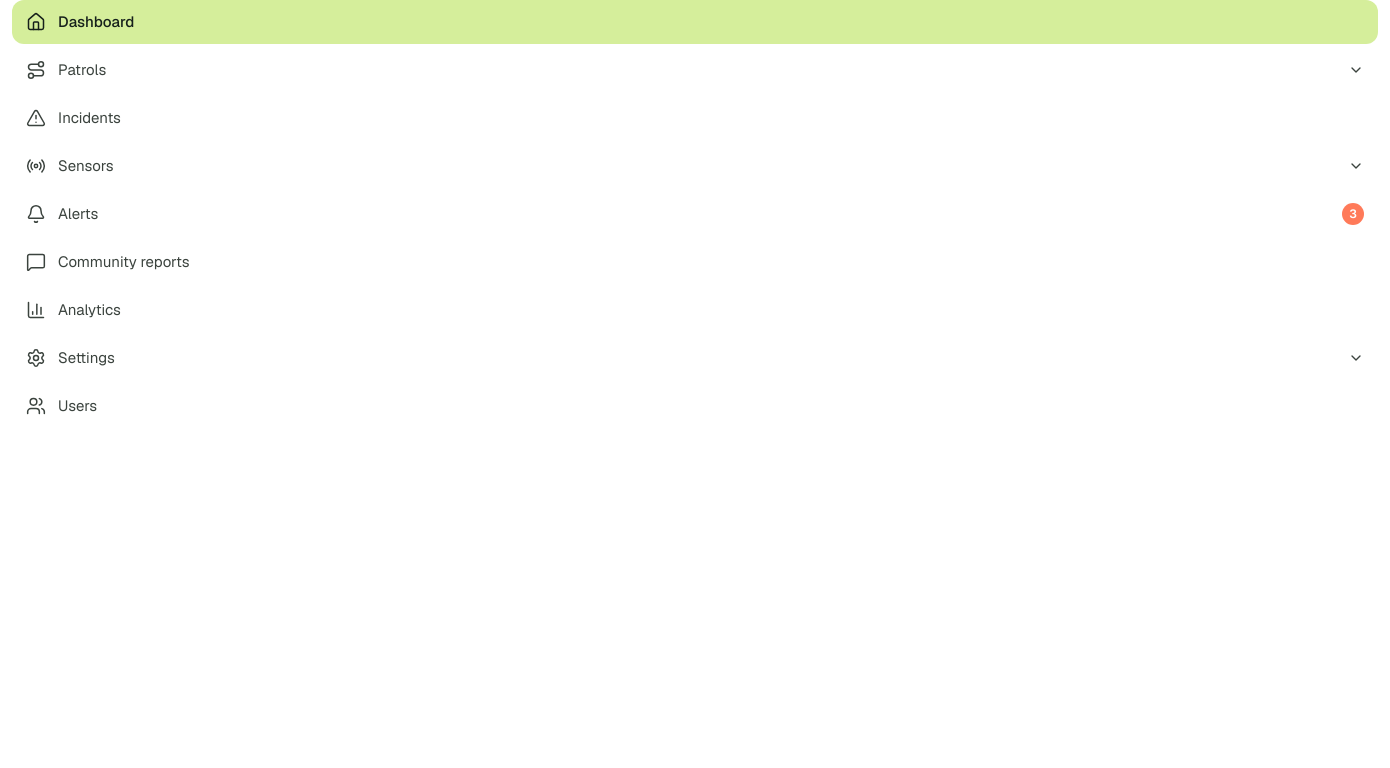
Test: navigation › renders sidebar groups and toggles nested navigation
This screenshot has width=1390, height=768.
Click the button "Patrols" at (82, 70), box [12,48,1378,92]
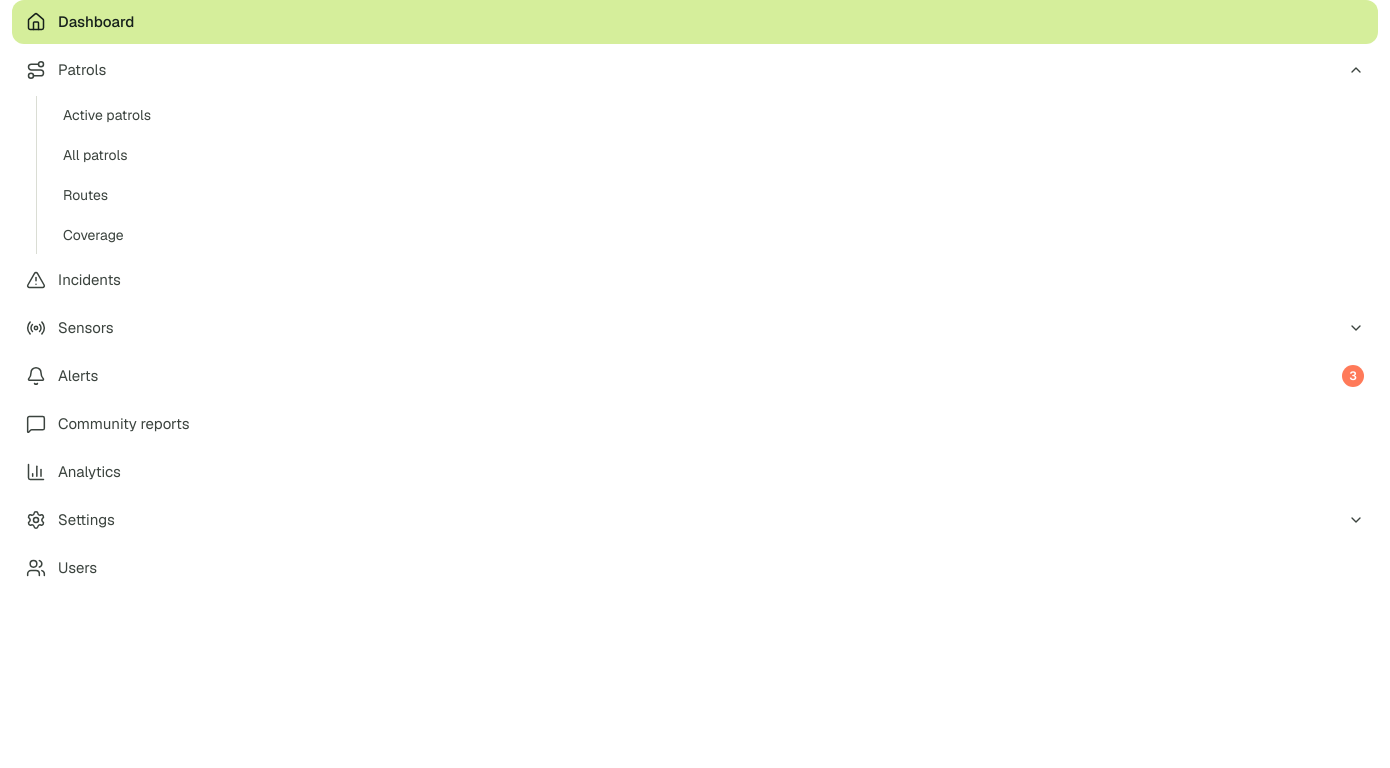
Check: the button "Patrols" is expanded
Click the button "Patrols" at (82, 70), box [12,48,1378,92]
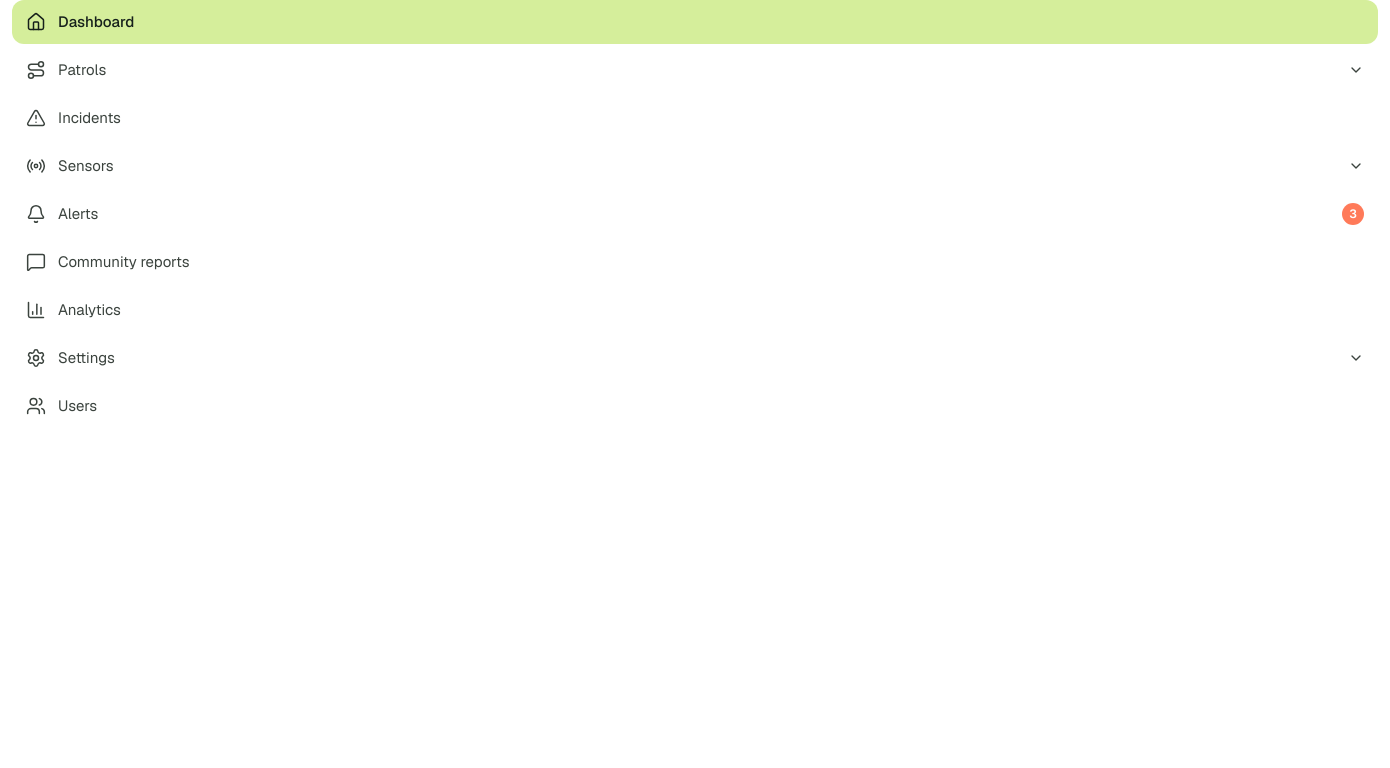
Check: the button "Patrols" is collapsed, box [12,48,1378,92]
Click the button "Sensors" at (86, 166), box [12,144,1378,188]
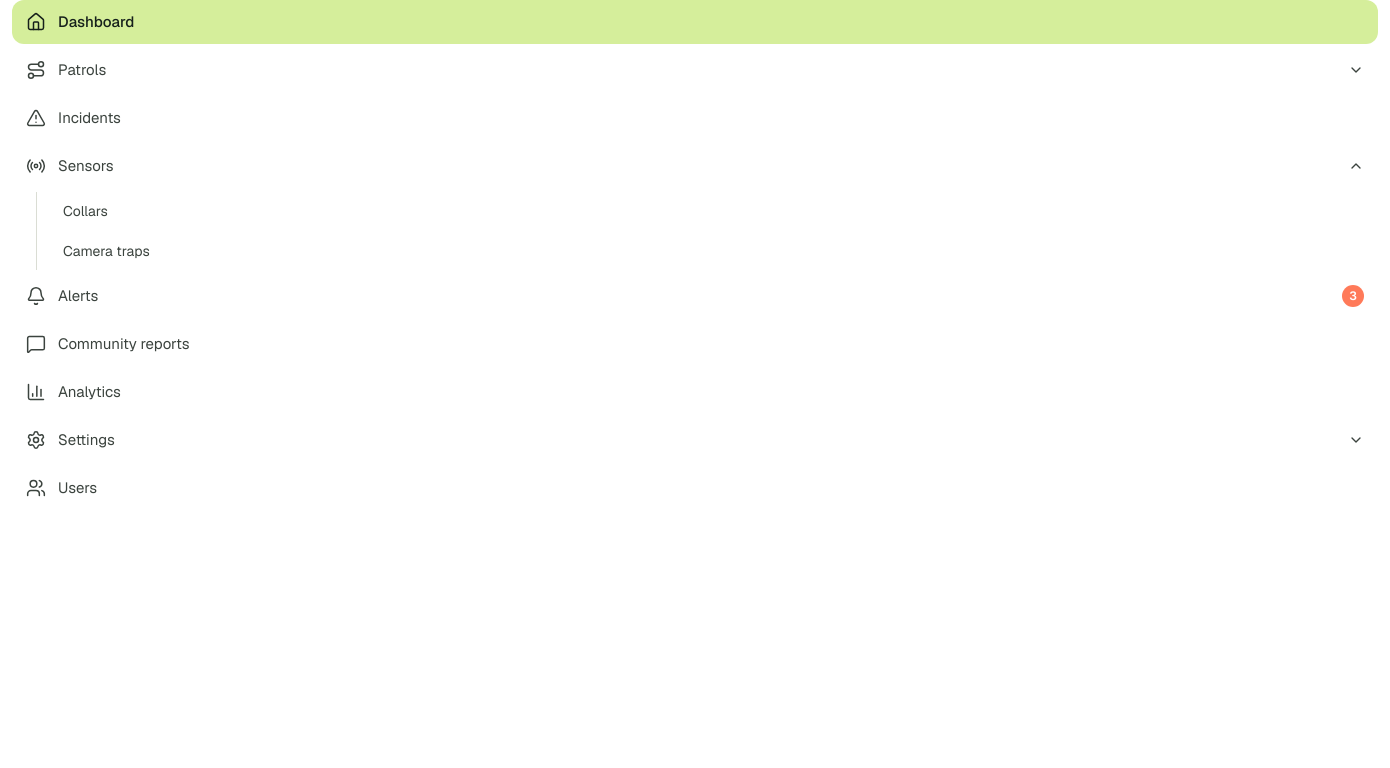
Check: the button "Sensors" is expanded
Click the button "Sensors" at (86, 166), box [12,144,1378,188]
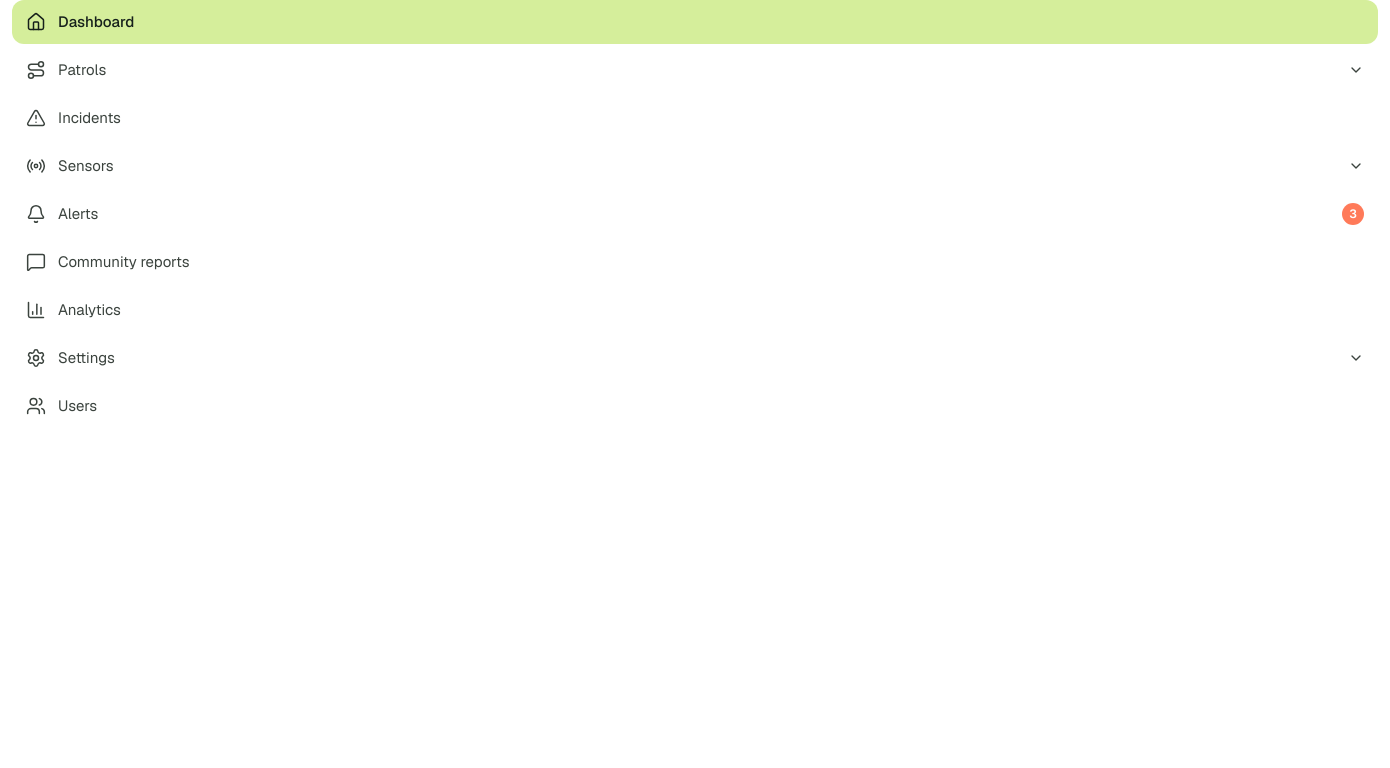
Check: the button "Sensors" is collapsed, box [12,144,1378,188]
Click the button "Settings" at (86, 358), box [12,336,1378,380]
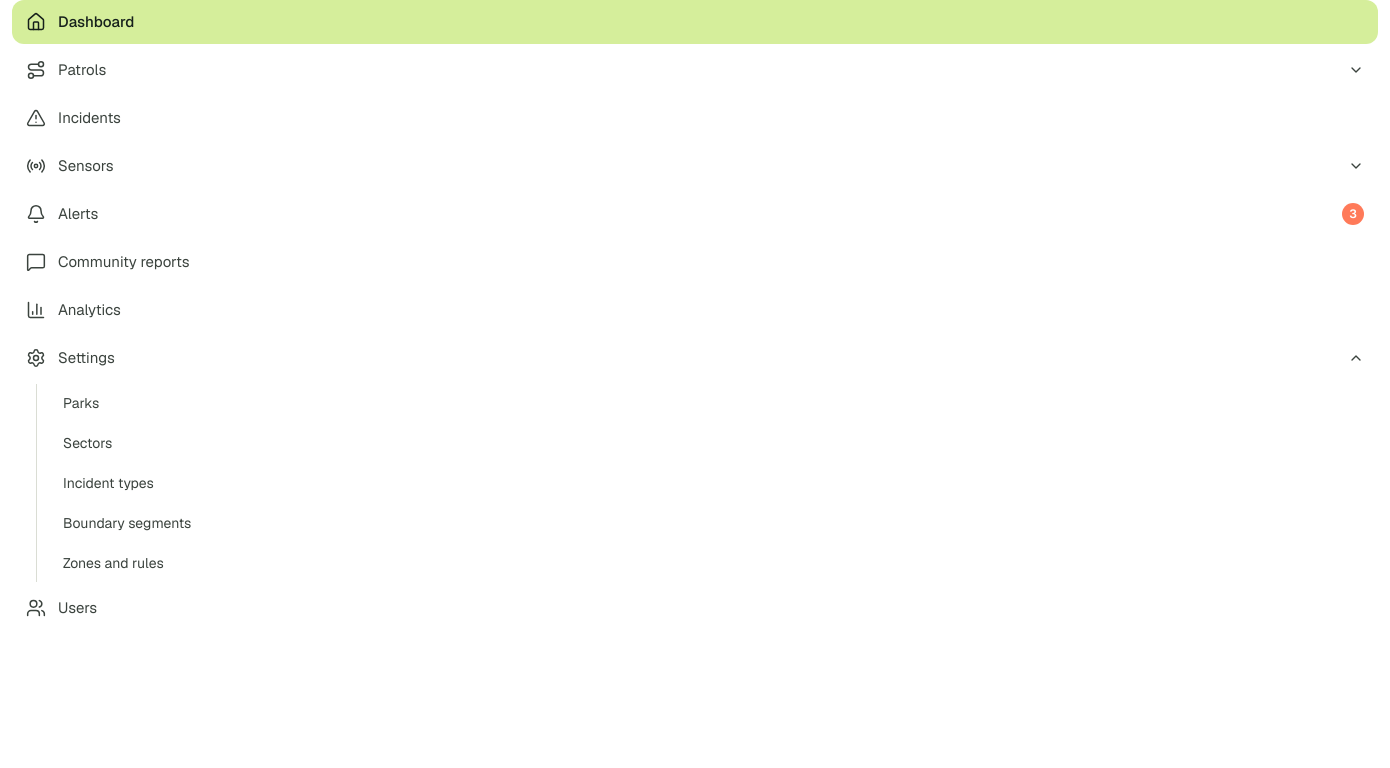
Check: the button "Settings" is expanded
Click the button "Settings" at (86, 358), box [12,336,1378,380]
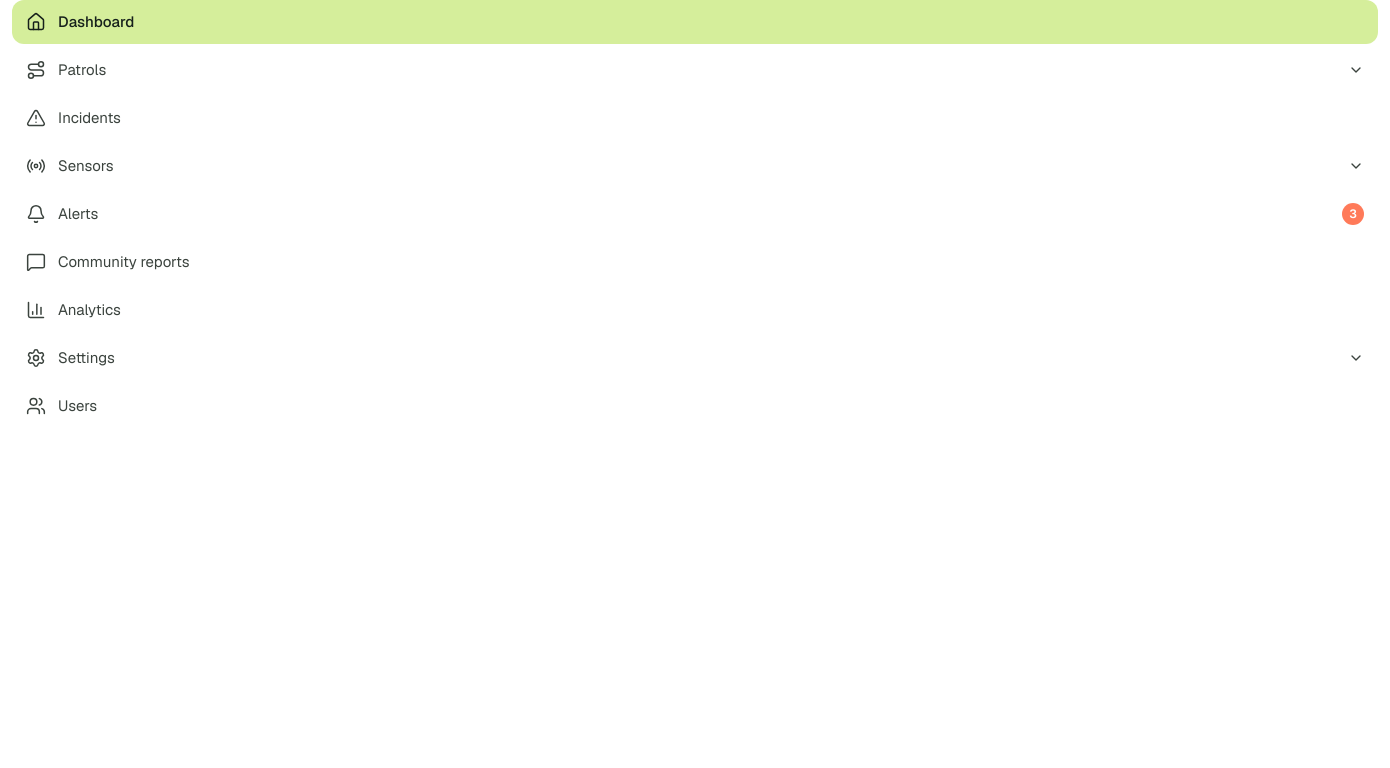
Check: the text "3" is shown, box [1342,203,1364,225]
Check: the button "Settings" is collapsed, box [12,336,1378,380]
